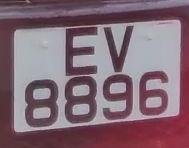6: (135, 65, 173, 122)
8: (21, 69, 63, 133), (60, 71, 102, 129)
9: (99, 71, 136, 125)
E: (61, 23, 107, 78)
V: (99, 22, 141, 76)
